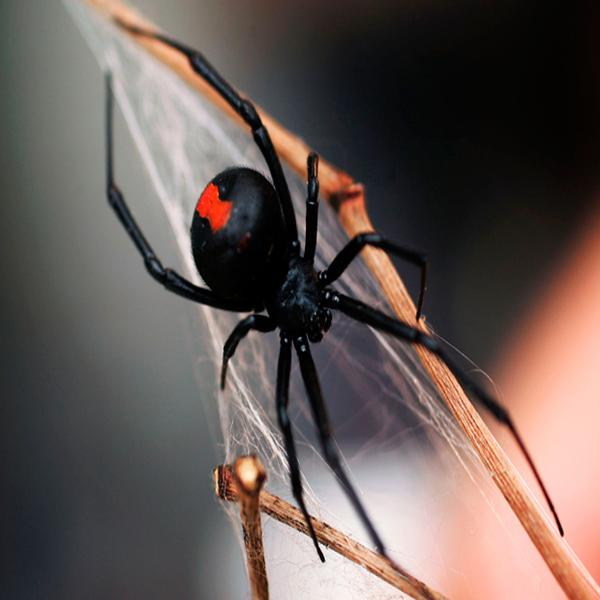Redback Spider: (104, 39, 552, 552)
